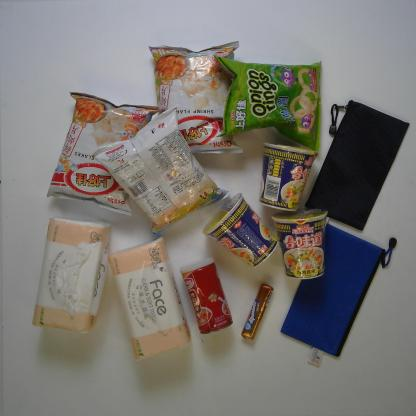Candy: (239, 282, 273, 340)
Canned Food: (180, 256, 233, 337)
Instant Noodles: (202, 191, 278, 267), (257, 140, 319, 212), (271, 210, 330, 282)
Puffed Food: (92, 107, 231, 237), (45, 90, 158, 220), (148, 40, 242, 158), (213, 52, 325, 150)
Stationery: (278, 222, 400, 368), (302, 97, 410, 232)
Tissue: (110, 236, 193, 363), (32, 216, 110, 336)
